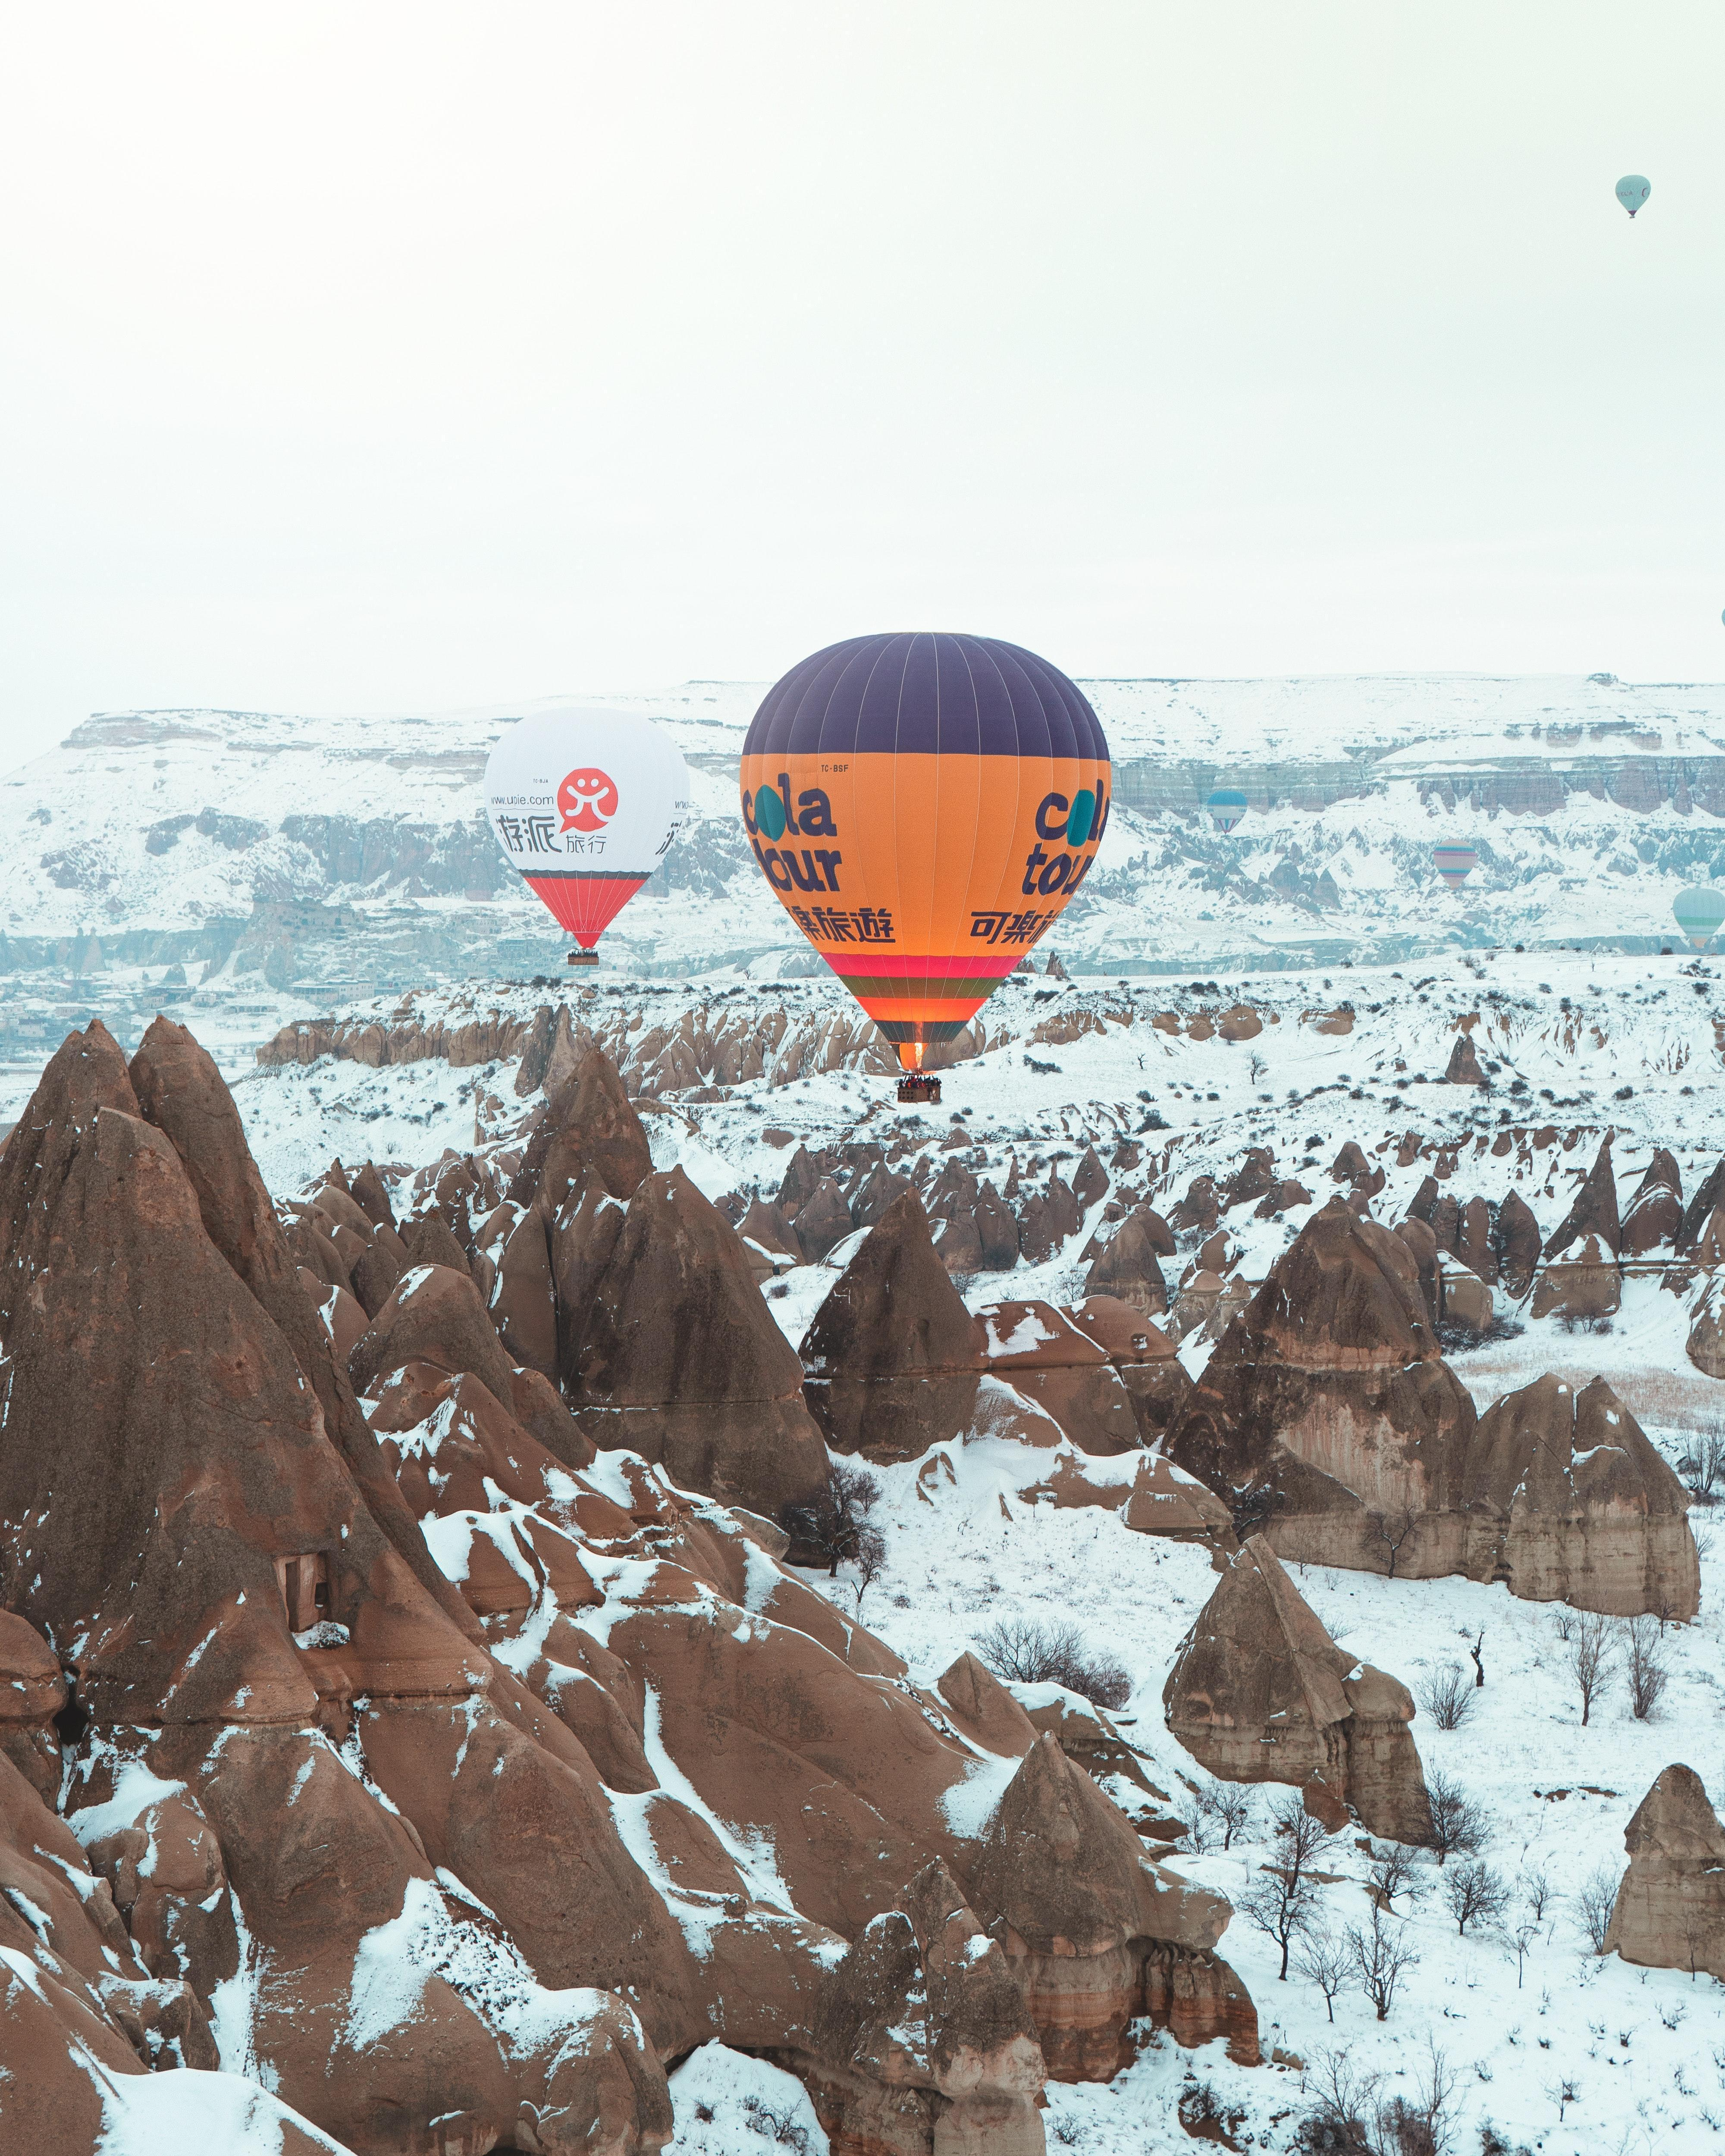hot air ballon: (736, 630, 1114, 1105), (482, 706, 692, 966), (1616, 174, 1651, 218)
